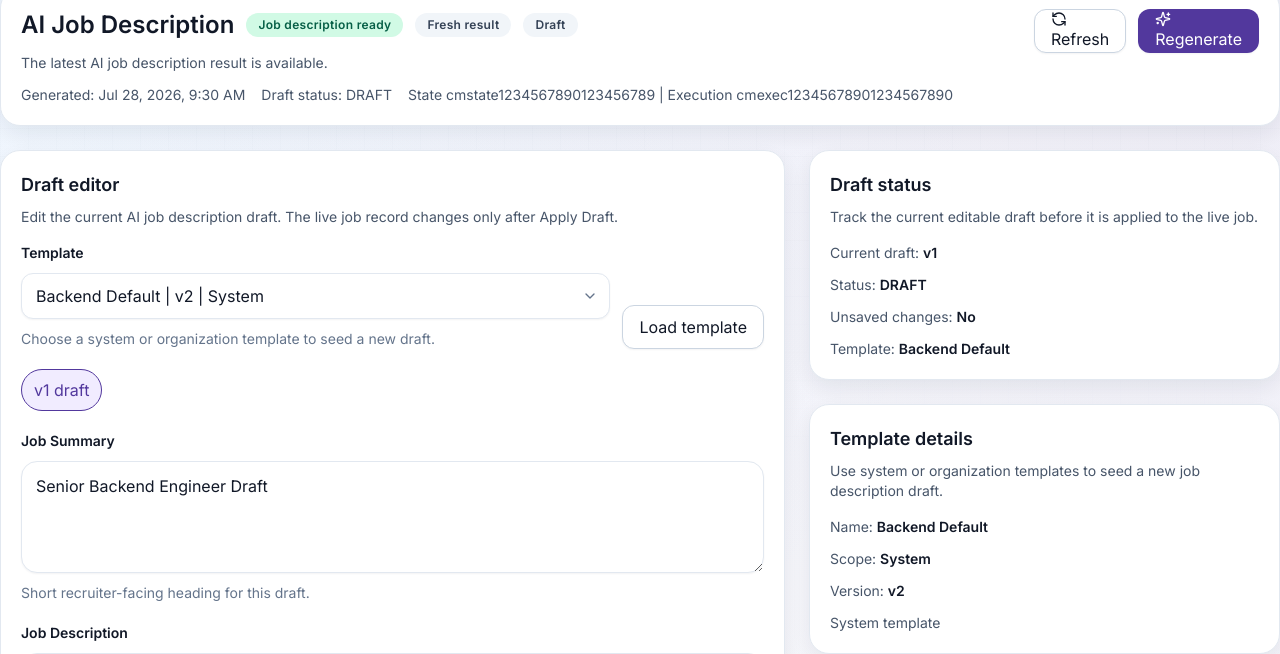
Test: RecruiterAiJobDescriptionPanel › queues regeneration and polls until completion
What coordinates should you click on to do the following:
click the button "Regenerate"
I would click on:
 (1199, 31)
Its box is [1138,9,1259,53].
Wait 4000 ms
(page scrolled)
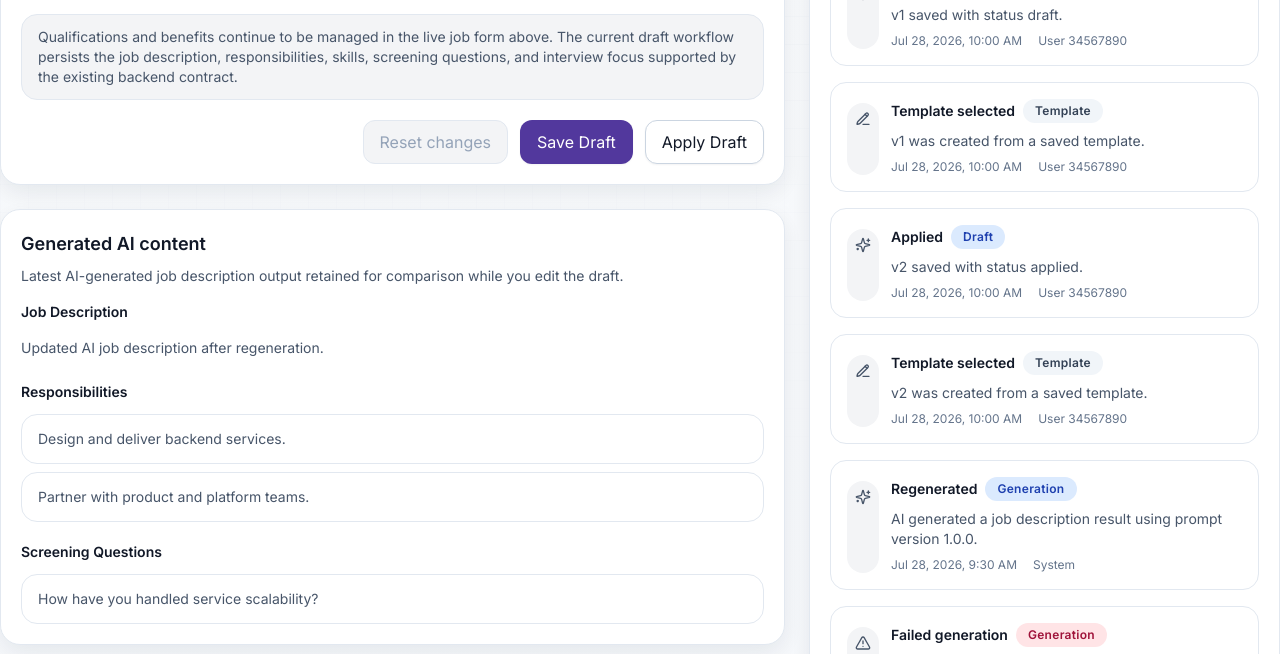
Result: the text "Updated AI job description after regeneration." is shown at [21,339,324,356]
